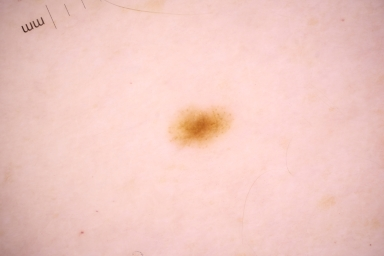nevus: (171, 109, 232, 146)
